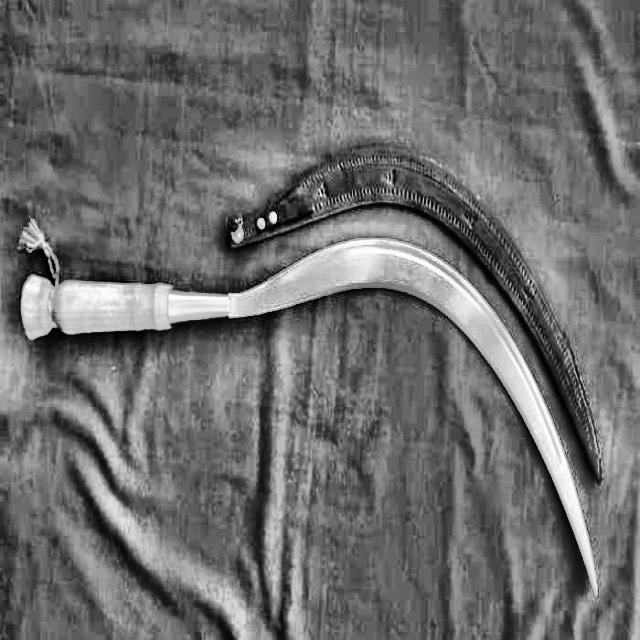celurit: (16, 223, 607, 610)
